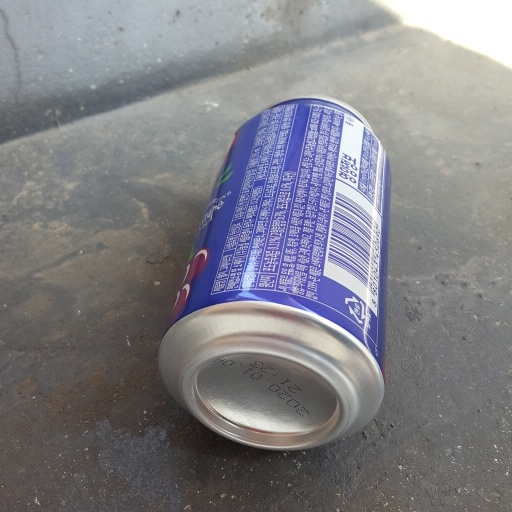Metal_0: (159, 98, 392, 450)
